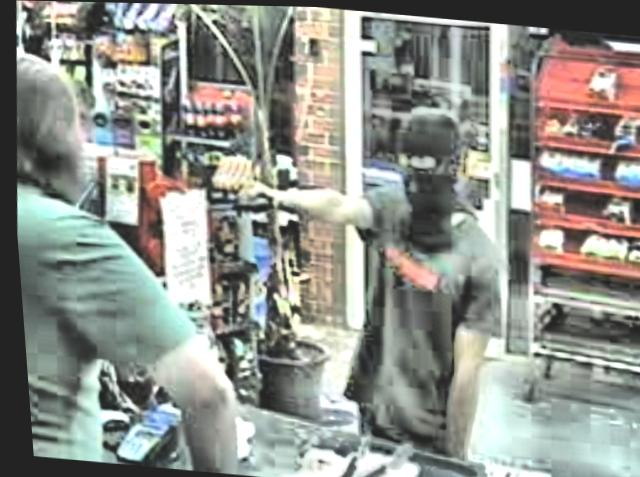pistol: (221, 173, 276, 221)
